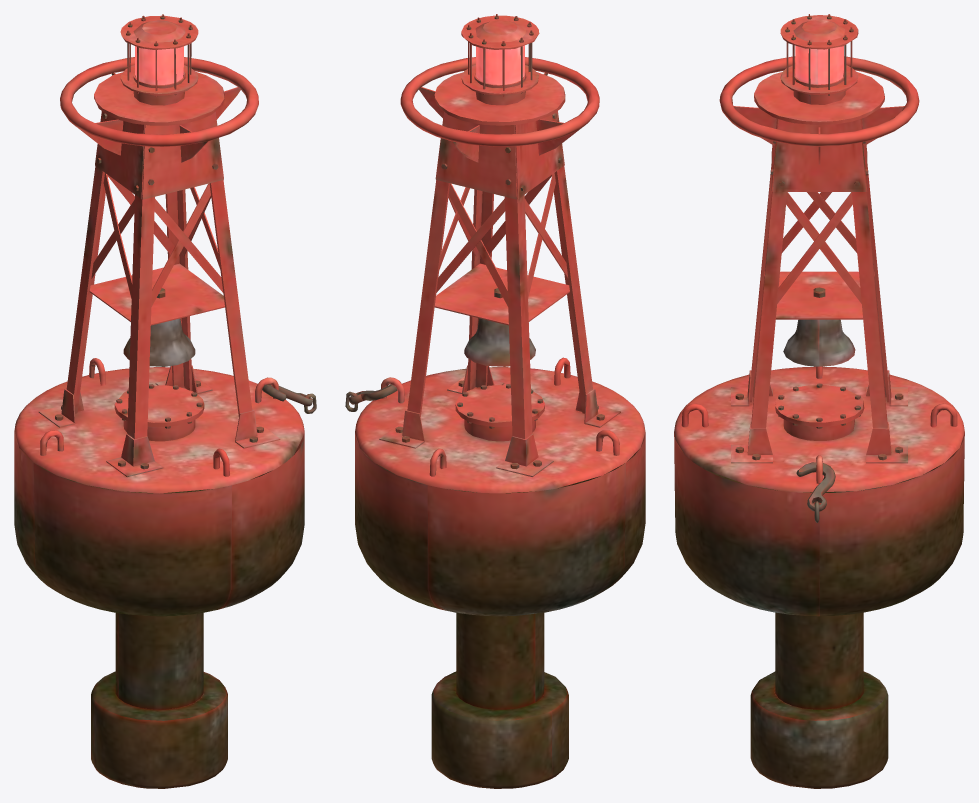
Rendered from ocean_buoy.gltf.
The picture shows the model from 3 angles, left to right: view 1: azimuth 30°, elevation 25°; view 2: azimuth 150°, elevation 25°; view 3: azimuth 270°, elevation 25°; orthographic projection.
Parts seen in each view (by area): view 1: ocean_buoy; view 2: ocean_buoy; view 3: ocean_buoy.
Boxes of the visible parts, box(x1,y1,x2,y2) form: ocean_buoy: box(14, 14, 316, 788); ocean_buoy: box(345, 14, 645, 788); ocean_buoy: box(674, 14, 964, 788).
Size of the model in its own units: 1.07 by 2.66 by 0.9521.
Materials: 1 (1 with a texture image).
